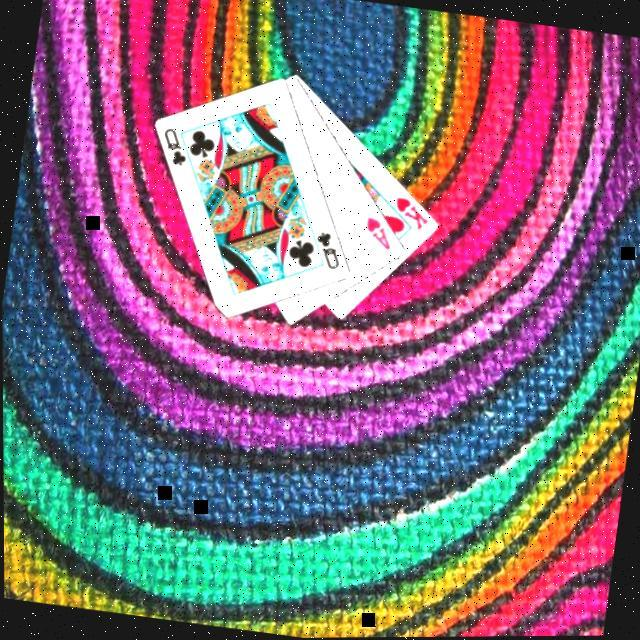AH: (359, 215, 398, 255)
KH: (389, 194, 435, 235)
QC: (310, 229, 348, 275), (156, 125, 194, 171)
